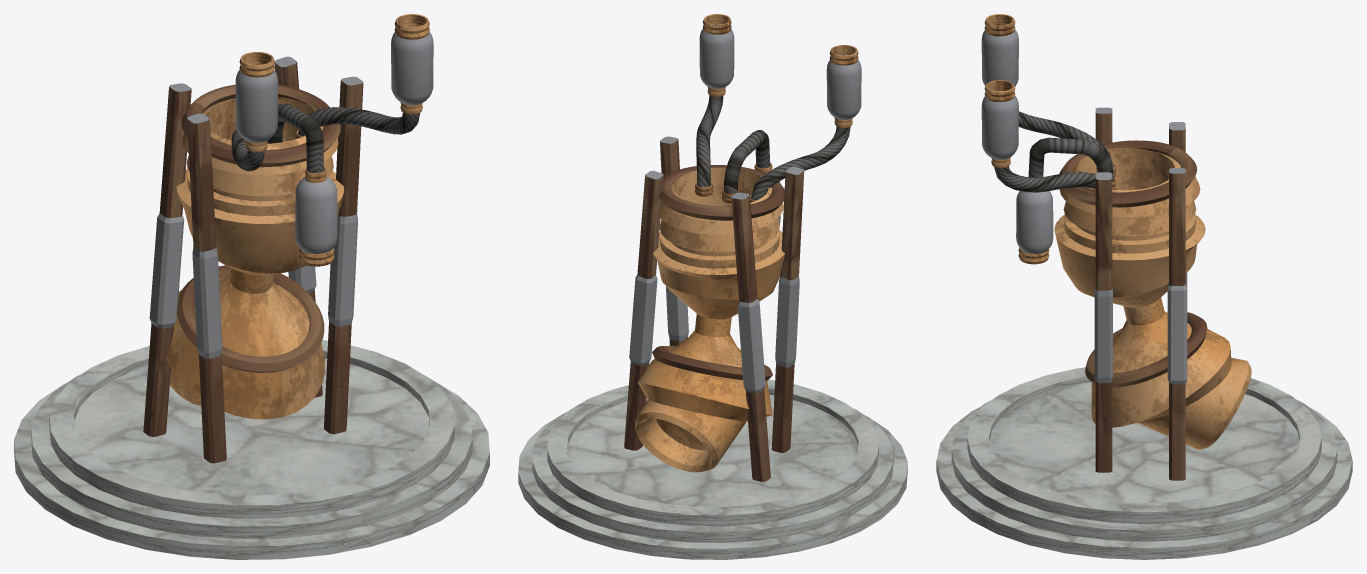
The model's file is Sand_Machine_Textured.fbx.
The picture shows the model from 3 angles, left to right: view 1: azimuth 30°, elevation 25°; view 2: azimuth 150°, elevation 25°; view 3: azimuth 270°, elevation 25°; orthographic projection. The views are drawn at different scales.
Visible parts, largest first — view 1: Cylinder.001, Cylinder, Cube, Cube.001, Sphere, Torus.009, Torus.007, Sphere.001, BézierCurve, BézierCurve.001, Torus.002; view 2: Cylinder.001, Cylinder, Cube.001, Cube, Sphere, BézierCurve, Torus.007, BézierCurve.001, Torus.009, Torus.002; view 3: Cylinder.001, Cylinder, Cube.001, Cube, Sphere, BézierCurve, Torus.007, Sphere.001, Torus.009, BézierCurve.001, Torus.002.
Boxes of the visible parts, <box> form: Cylinder.001: <box>14,340,489,559</box>; Cylinder: <box>166,96,344,419</box>; Cube: <box>187,76,363,463</box>; Cube.001: <box>143,56,322,436</box>; Sphere: <box>235,32,433,143</box>; Torus.009: <box>177,265,324,372</box>; Torus.007: <box>181,84,340,167</box>; Sphere.001: <box>295,176,337,253</box>; BézierCurve: <box>231,107,419,171</box>; BézierCurve.001: <box>267,103,323,173</box>; Torus.002: <box>239,14,429,77</box>; Cylinder.001: <box>518,379,907,559</box>; Cylinder: <box>635,167,784,472</box>; Cube.001: <box>624,170,770,481</box>; Cube: <box>660,136,804,452</box>; Sphere: <box>699,24,861,119</box>; BézierCurve: <box>696,95,850,200</box>; Torus.007: <box>659,165,784,220</box>; BézierCurve.001: <box>723,130,770,193</box>; Torus.009: <box>652,346,772,380</box>; Torus.002: <box>703,14,858,65</box>; Cylinder.001: <box>936,367,1352,559</box>; Cylinder: <box>1054,147,1251,449</box>; Cube.001: <box>1167,122,1187,480</box>; Cube: <box>1094,107,1112,472</box>; Sphere: <box>981,25,1018,159</box>; BézierCurve: <box>994,111,1113,192</box>; Torus.007: <box>1059,140,1197,207</box>; Sphere.001: <box>1016,191,1053,253</box>; Torus.009: <box>1085,312,1207,387</box>; BézierCurve.001: <box>1028,137,1113,181</box>; Torus.002: <box>984,14,1015,101</box>.
Bounding box in the file's own units: 223 × 248 × 223.
